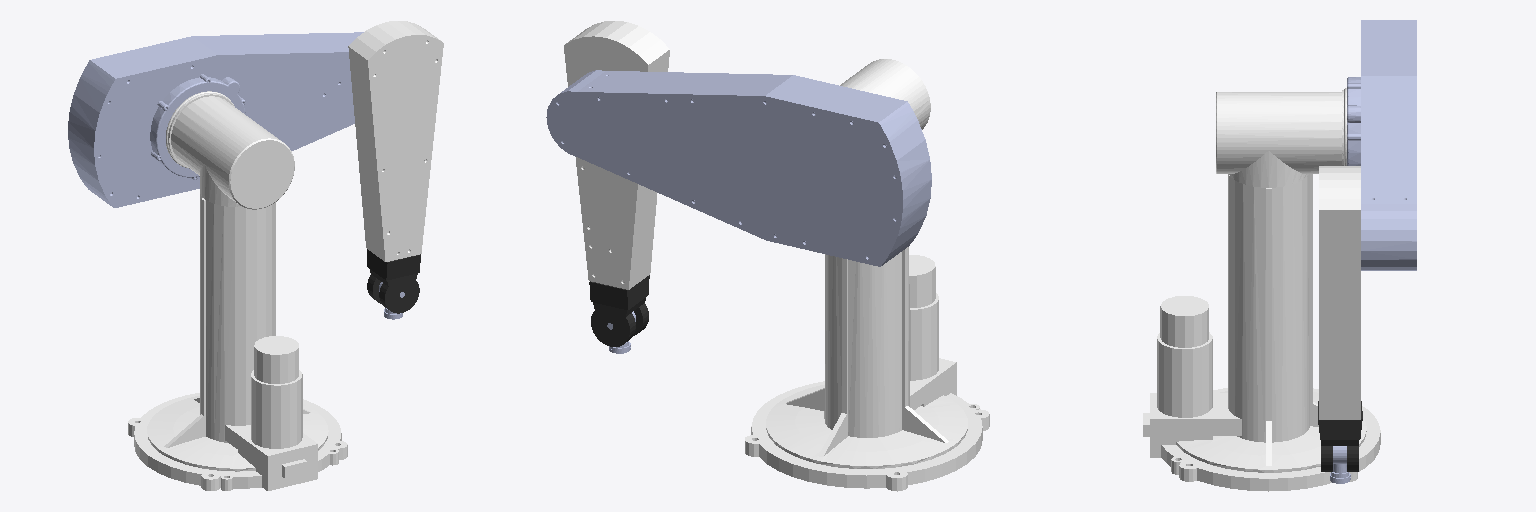
URDF robot description (robot_puma_560):
<?xml version="1.0" encoding="utf-8"?>
<!-- This URDF was automatically created by SolidWorks to URDF Exporter! Originally created by [author] ([email redacted]) 
     Commit Version: 1.6.0-1-g15f4949  Build Version: 1.6.7594.29634
     For more information, please see http://wiki.ros.org/sw_urdf_exporter -->
<robot
  name="robot_puma_560">
  <link
    name="base_link">
    <inertial>
      <origin
        xyz="9.5376E-11 -0.021962 0.21792" 
        rpy="0 0 0" />
      <mass
        value="15.787" />
      <inertia
        ixx="0.55024"
        ixy="-2.863E-11"
        ixz="1.6743E-10"
        iyy="0.50424"
        iyz="-0.022162"
        izz="0.16071" />
    </inertial>
    <visual>
      <origin
        xyz="0 0 0.64897"
        rpy="0 0 0" />
      <geometry>
        <mesh
          filename="package://robot_puma_560/meshes/base_link.STL" />
      </geometry>
      <material
        name="">
        <color
          rgba="1 1 1 1" />
      </material>
    </visual>
    <collision>
      <origin
        xyz="0 0 0.64897"
        rpy="0 0 0" />
      <geometry>
        <mesh
          filename="package://robot_puma_560/meshes/base_link.STL" />
      </geometry>
    </collision>
  </link>
  <link
    name="Link_1">
    <inertial>
      <origin
        xyz="2.2813E-06 0.022505 -0.0027897"
        rpy="0 0 0" />
      <mass
        value="4.4341" />
      <inertia
        ixx="0.027328"
        ixy="-1.5282E-06"
        ixz="-2.2409E-08"
        iyy="0.013316"
        iyz="-0.00027854"
        izz="0.027164" />
    </inertial>
    <visual>
      <origin
        xyz="0 0 0"
        rpy="0 0 0" />
      <geometry>
        <mesh
          filename="package://robot_puma_560/meshes/Link_1.STL" />
      </geometry>
      <material
        name="">
        <color
          rgba="1 1 1 1" />
      </material>
    </visual>
    <collision>
      <origin
        xyz="0 0 0"
        rpy="0 0 0" />
      <geometry>
        <mesh
          filename="package://robot_puma_560/meshes/Link_1.STL" />
      </geometry>
    </collision>
  </link>
  <joint
    name="joint_1"
    type="continuous">
    <origin
      xyz="0 0 0.64897"
      rpy="0 0 0" />
    <parent
      link="base_link" />
    <child
      link="Link_1" />
    <axis
      xyz="0 0 -1" />
  </joint>
  <link
    name="Link_2">
    <inertial>
      <origin
        xyz="0.082755 0.00088274 0.21527"
        rpy="0 0 0" />
      <mass
        value="16.847" />
      <inertia
        ixx="0.097292"
        ixy="-0.0056175"
        ixz="-0.0042857"
        iyy="0.59651"
        iyz="-9.6614E-05"
        izz="0.65976" />
    </inertial>
    <visual>
      <origin
        xyz="0 0 0"
        rpy="0 0 0" />
      <geometry>
        <mesh
          filename="package://robot_puma_560/meshes/Link_2.STL" />
      </geometry>
      <material
        name="">
        <color
          rgba="0.79216 0.81961 0.93333 1" />
      </material>
    </visual>
    <collision>
      <origin
        xyz="0 0 0"
        rpy="0 0 0" />
      <geometry>
        <mesh
          filename="package://robot_puma_560/meshes/Link_2.STL" />
      </geometry>
    </collision>
  </link>
  <joint
    name="joint_2"
    type="continuous">
    <origin
      xyz="0 0 0"
      rpy="-1.5708 0 0" />
    <parent
      link="Link_1" />
    <child
      link="Link_2" />
    <axis
      xyz="-0.00010835 0 -1" />
  </joint>
  <link
    name="Link_3">
    <inertial>
      <origin
        xyz="-1.1788E-06 0.088774 -0.01236"
        rpy="0 0 0" />
      <mass
        value="4.6025" />
      <inertia
        ixx="0.082615"
        ixy="4.837E-07"
        ixz="3.6529E-07"
        iyy="0.0091916"
        iyz="2.2739E-06"
        izz="0.087355" />
    </inertial>
    <visual>
      <origin
        xyz="0 0 0"
        rpy="0 0 0" />
      <geometry>
        <mesh
          filename="package://robot_puma_560/meshes/Link_3.STL" />
      </geometry>
      <material
        name="">
        <color
          rgba="1 1 1 1" />
      </material>
    </visual>
    <collision>
      <origin
        xyz="0 0 0"
        rpy="0 0 0" />
      <geometry>
        <mesh
          filename="package://robot_puma_560/meshes/Link_3.STL" />
      </geometry>
    </collision>
  </link>
  <joint
    name="joint_3"
    type="continuous">
    <origin
      xyz="0.43179 0.0048511 0.14185"
      rpy="0 0.00010834 0.011978" />
    <parent
      link="Link_2" />
    <child
      link="Link_3" />
    <axis
      xyz="0 0 1" />
  </joint>
  <link
    name="Link_4">
    <inertial>
      <origin
        xyz="0.0005347 -2.7756E-17 -0.032405"
        rpy="0 0 0" />
      <mass
        value="0.47079" />
      <inertia
        ixx="0.0007728"
        ixy="4.2352E-21"
        ixz="5.0487E-06"
        iyy="0.00073772"
        iyz="2.5437E-20"
        izz="0.00046692" />
    </inertial>
    <visual>
      <origin
        xyz="0 0 0"
        rpy="0 0 0" />
      <geometry>
        <mesh
          filename="package://robot_puma_560/meshes/Link_4.STL" />
      </geometry>
      <material
        name="">
        <color
          rgba="0.25098 0.25098 0.25098 1" />
      </material>
    </visual>
    <collision>
      <origin
        xyz="0 0 0"
        rpy="0 0 0" />
      <geometry>
        <mesh
          filename="package://robot_puma_560/meshes/Link_4.STL" />
      </geometry>
    </collision>
  </link>
  <joint
    name="joint_4"
    type="continuous">
    <origin
      xyz="0 0.43209 -0.012362"
      rpy="-1.5706 -0.0098803 -0.0165" />
    <parent
      link="Link_3" />
    <child
      link="Link_4" />
    <axis
      xyz="0.016498 0 -0.99986" />
  </joint>
  <link
    name="Link_5">
    <inertial>
      <origin
        xyz="5.3025E-10 0.010974 -7.1165E-11"
        rpy="0 0 0" />
      <mass
        value="0.077406" />
      <inertia
        ixx="4.3032E-05"
        ixy="9.8382E-13"
        ixz="1.205E-11"
        iyy="1.6966E-05"
        iyz="6.2843E-14"
        izz="4.5414E-05" />
    </inertial>
    <visual>
      <origin
        xyz="0 0 0"
        rpy="0 0 0" />
      <geometry>
        <mesh
          filename="package://robot_puma_560/meshes/Link_5.STL" />
      </geometry>
      <material
        name="">
        <color
          rgba="0.79216 0.81961 0.93333 1" />
      </material>
    </visual>
    <collision>
      <origin
        xyz="0 0 0"
        rpy="0 0 0" />
      <geometry>
        <mesh
          filename="package://robot_puma_560/meshes/Link_5.STL" />
      </geometry>
    </collision>
  </link>
  <joint
    name="joint_5"
    type="continuous">
    <origin
      xyz="0 0 0"
      rpy="1.5708 0 0" />
    <parent
      link="Link_4" />
    <child
      link="Link_5" />
    <axis
      xyz="0 0 -1" />
  </joint>
  <link
    name="Link_6">
    <inertial>
      <origin
        xyz="1.1102E-16 -5.5511E-17 0.05588"
        rpy="0 0 0" />
      <mass
        value="0.0055857" />
      <inertia
        ixx="5.3713E-07"
        ixy="5.3198E-23"
        ixz="-2.088E-22"
        iyy="5.1845E-07"
        iyz="1.3981E-22"
        izz="1.0316E-06" />
    </inertial>
    <visual>
      <origin
        xyz="0 0 0"
        rpy="0 0 0" />
      <geometry>
        <mesh
          filename="package://robot_puma_560/meshes/Link_6.STL" />
      </geometry>
      <material
        name="">
        <color
          rgba="0.79216 0.81961 0.93333 1" />
      </material>
    </visual>
    <collision>
      <origin
        xyz="0 0 0"
        rpy="0 0 0" />
      <geometry>
        <mesh
          filename="package://robot_puma_560/meshes/Link_6.STL" />
      </geometry>
    </collision>
  </link>
  <joint
    name="joint_6"
    type="continuous">
    <origin
      xyz="0 0 0"
      rpy="-1.5708 0.0089975 0" />
    <parent
      link="Link_5" />
    <child
      link="Link_6" />
    <axis
      xyz="0 0 1" />
  </joint>
</robot>

--- What the picture shows (computed from the rendered views, not written in the file) ---
3 views of the same robot in one strip: view 1: azimuth 30°, elevation 25°; view 2: azimuth 150°, elevation 25°; view 3: azimuth 270°, elevation 25° (orthographic).
Robot: robot_puma_560 — 7 links, 6 joints (6 continuous); root link base_link; default pose: every joint at zero.
Links seen in each view (by area): view 1: base_link, Link_2, Link_3, Link_1, Link_4; view 2: Link_2, base_link, Link_3, Link_4, Link_1; view 3: base_link, Link_2, Link_1, Link_3, Link_4, Link_5.
Link boxes in pixels (left/top/right/bottom): base_link: left=128, top=194, right=347, bottom=490; Link_2: left=68, top=32, right=363, bottom=207; Link_3: left=348, top=21, right=443, bottom=261; Link_1: left=166, top=91, right=294, bottom=209; Link_4: left=367, top=249, right=420, bottom=313; Link_2: left=546, top=70, right=931, bottom=266; base_link: left=745, top=247, right=989, bottom=491; Link_3: left=564, top=21, right=669, bottom=289; Link_4: left=589, top=275, right=649, bottom=346; Link_1: left=840, top=59, right=930, bottom=129; base_link: left=1143, top=174, right=1380, bottom=491; Link_2: left=1347, top=20, right=1416, bottom=270; Link_1: left=1216, top=88, right=1346, bottom=187; Link_3: left=1319, top=166, right=1360, bottom=419; Link_4: left=1318, top=401, right=1362, bottom=471; Link_5: left=1330, top=446, right=1350, bottom=480.
Bounding box of the posed robot: 0.7476 × 0.4979 × 0.7653 m (x, y, z).
7 mesh visuals loaded from 7 distinct referenced files (7 binary STL).